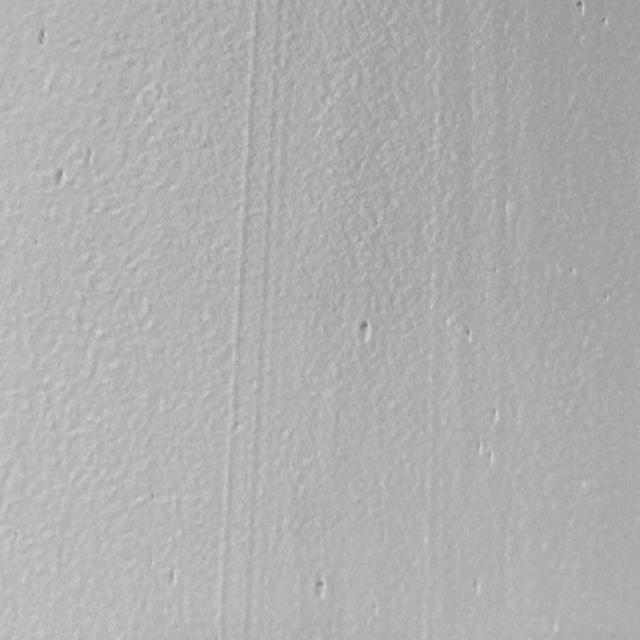pin holes: (356, 319, 376, 346), (310, 576, 329, 604), (483, 404, 503, 429), (468, 576, 487, 600), (460, 322, 478, 346), (51, 167, 69, 190), (164, 569, 180, 590), (574, 0, 590, 19), (38, 28, 50, 50), (598, 15, 610, 30)
